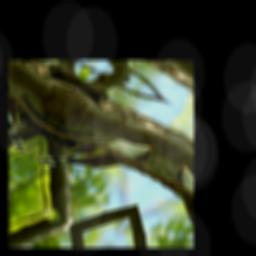Cuckoo: (37, 99, 158, 207)
